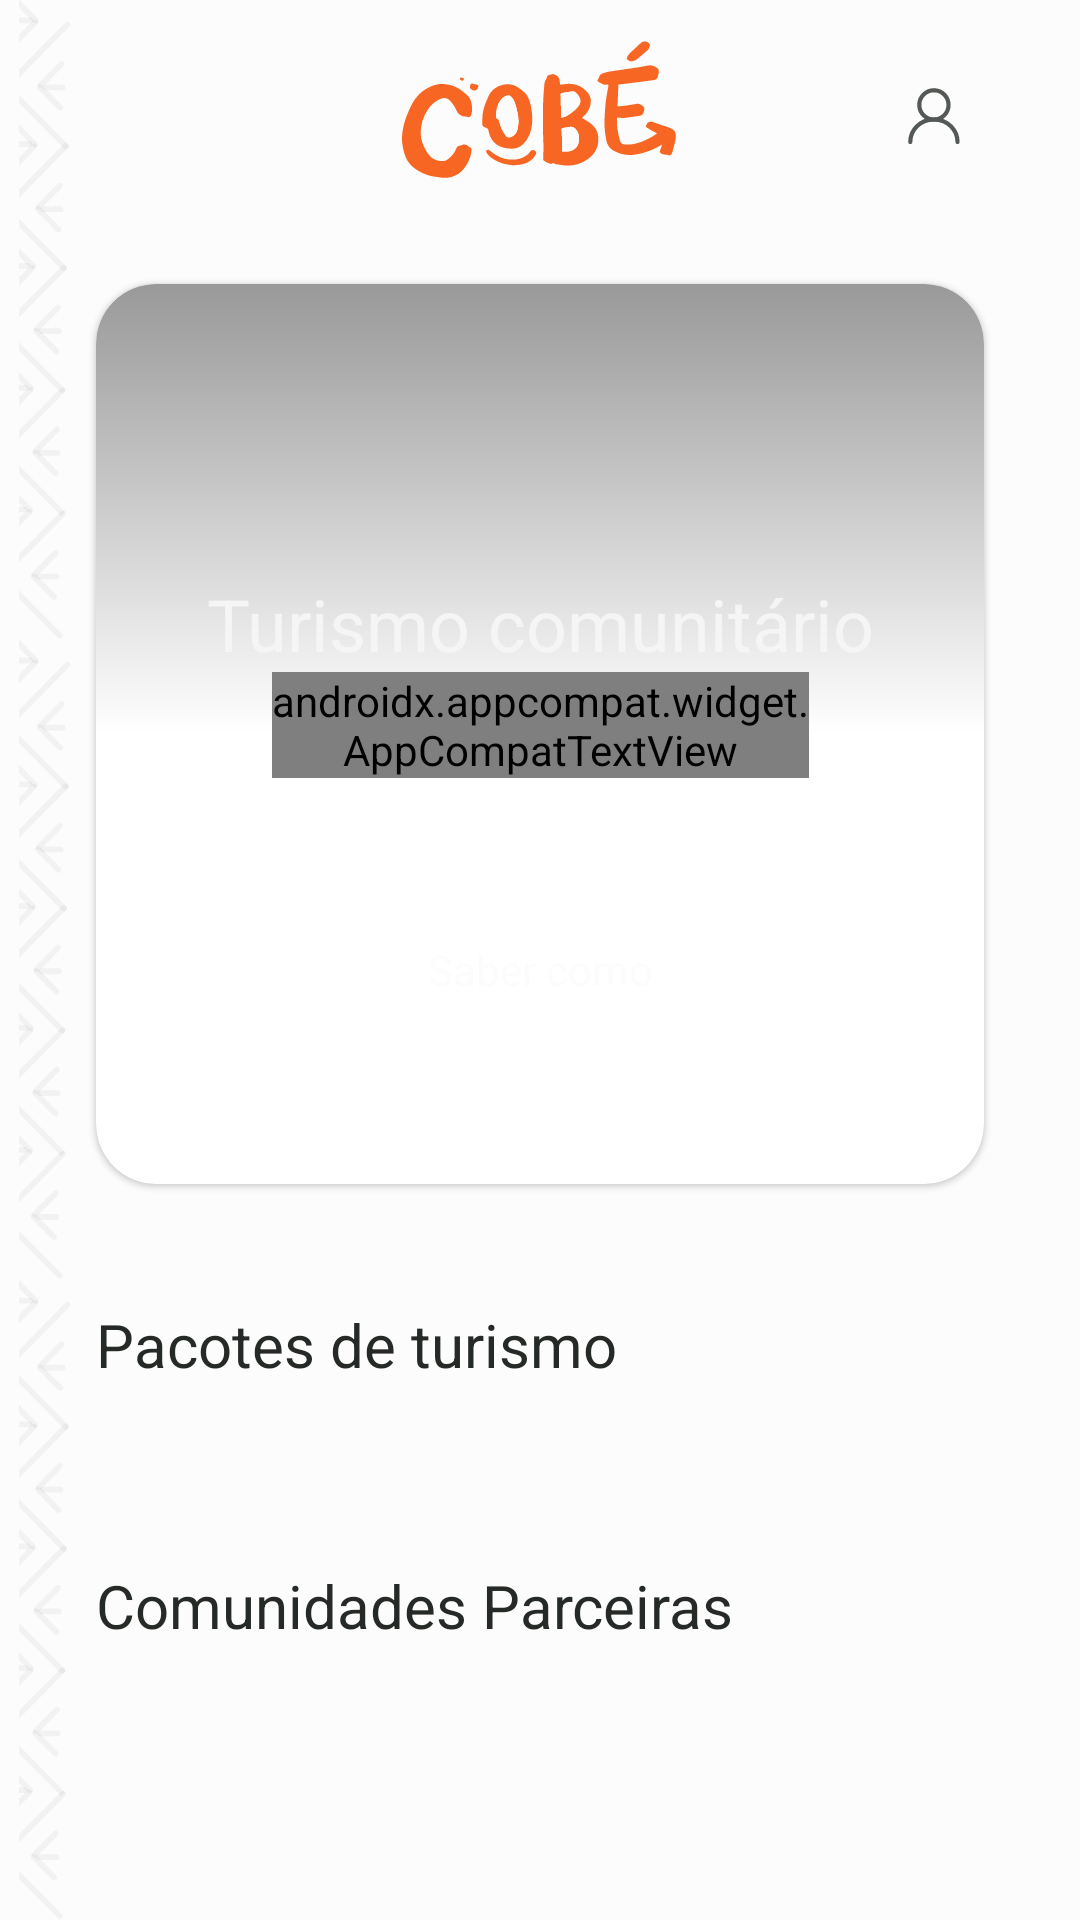

Icons on this 1080px x 1920px Android screen, each with the point to tap as (x=x, y=y):
profile: (x=934, y=116)
